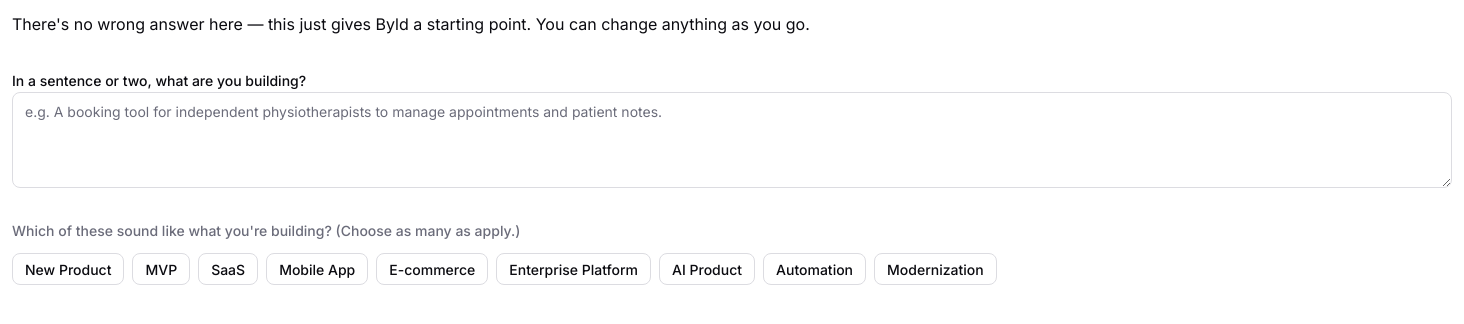
Test: IdeaStage › writes the idea description into discovery.accomplish
The image size is (1464, 324).
Type "A tool for something" into the text box labelled "In a sentence or two, what are you building?" at (732, 140), box [12, 92, 1452, 188]
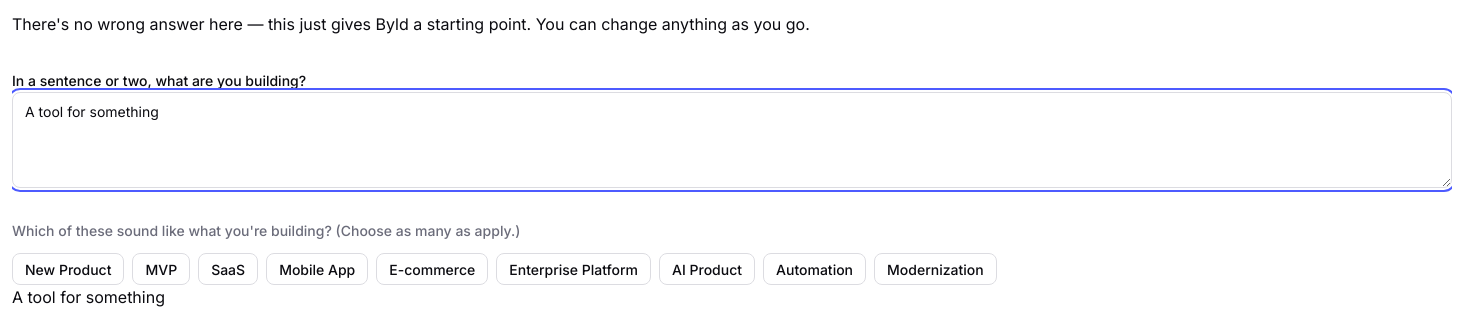
Expected: the text with test id "accomplish" reads "A tool for something", [12, 287, 165, 307]
